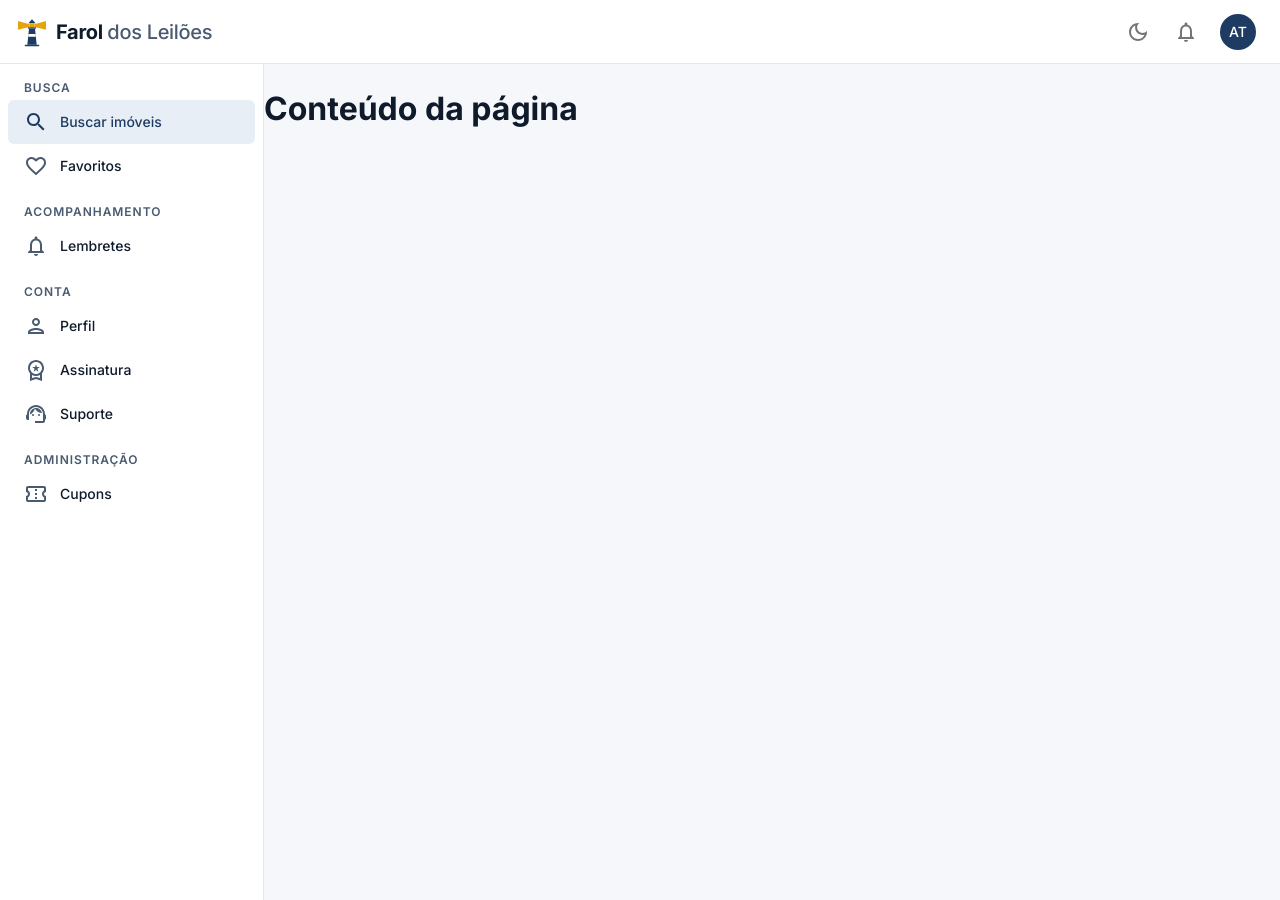
Test: AppShell — frame › opens the theme control from the top bar
Click the button named "Tema".
click(1138, 32)  # box top-left (1116, 10), bottom-right (1160, 54)
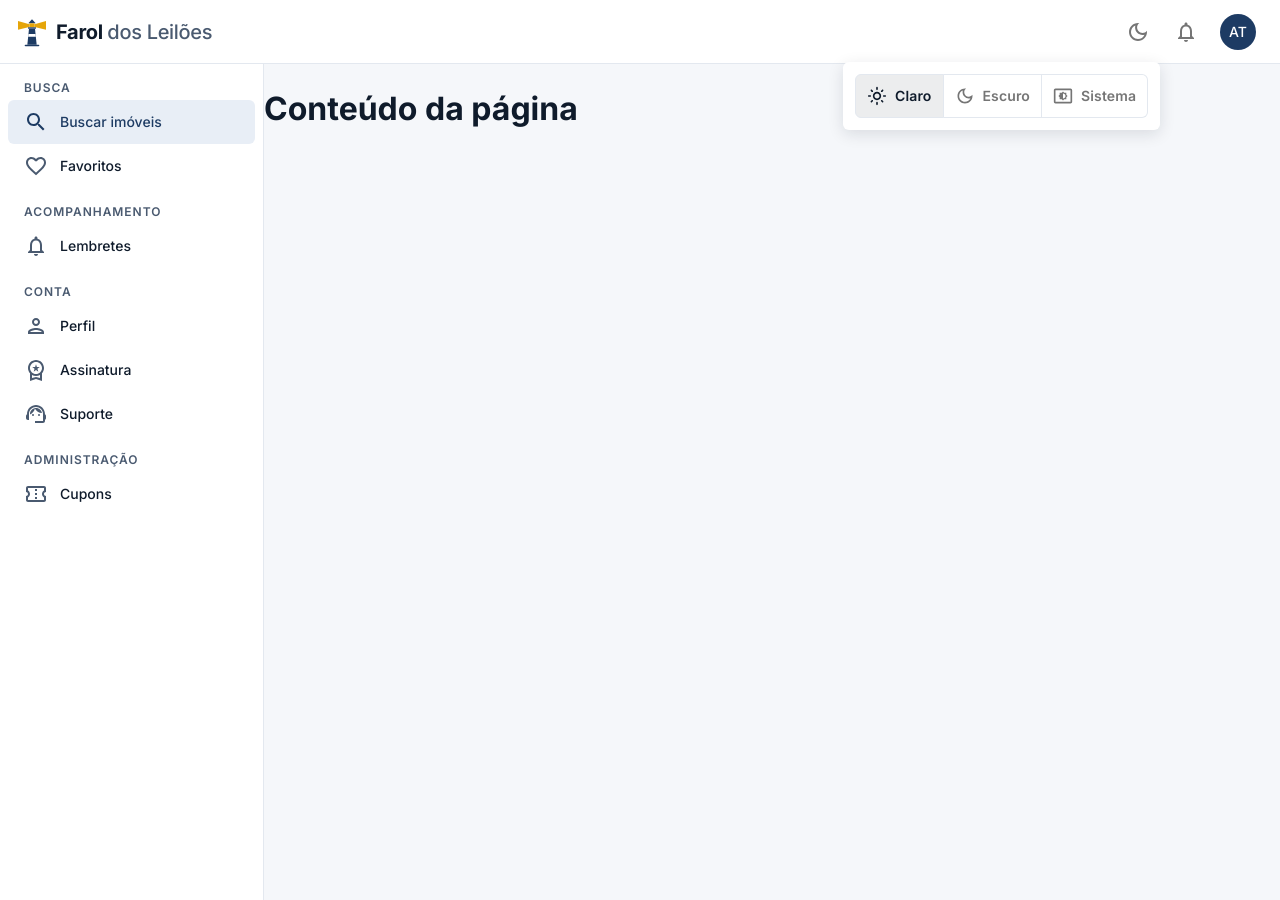
expect the button "Claro" is shown: met, box top-left (855, 74), bottom-right (944, 118)
expect the button "Escuro" is shown: met, box top-left (942, 74), bottom-right (1042, 118)
expect the button "Sistema" is shown: met, box top-left (1041, 74), bottom-right (1148, 118)
